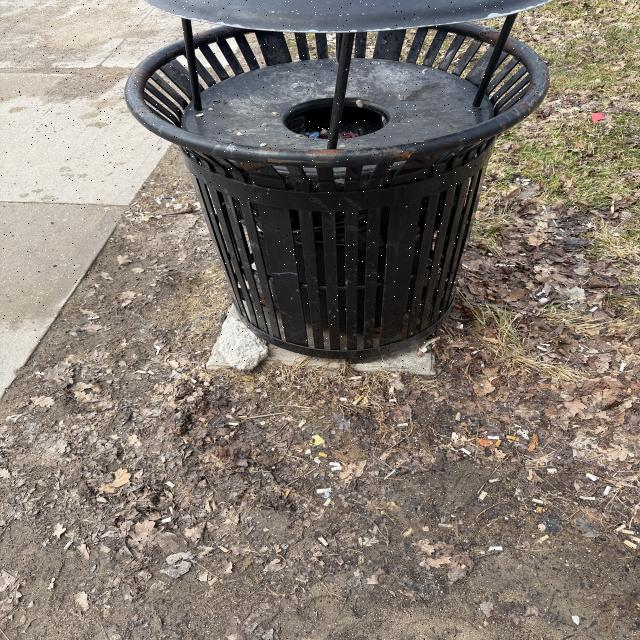Dustbin: (123, 0, 557, 362)
